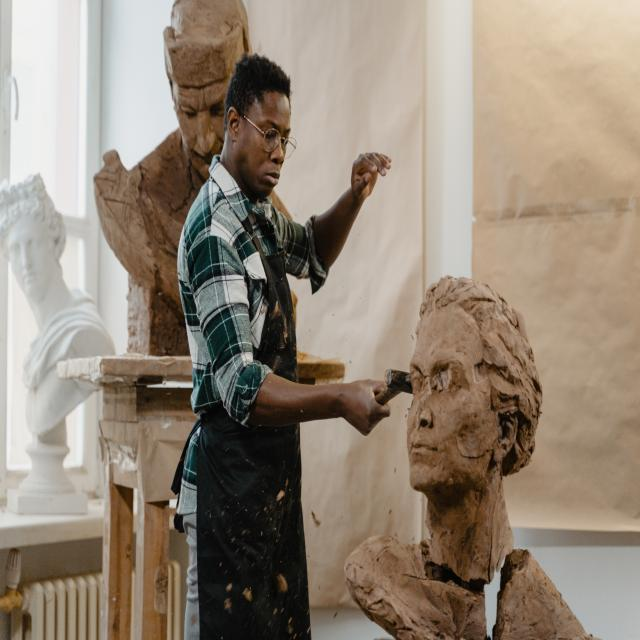hammer: (356, 353, 436, 431)
